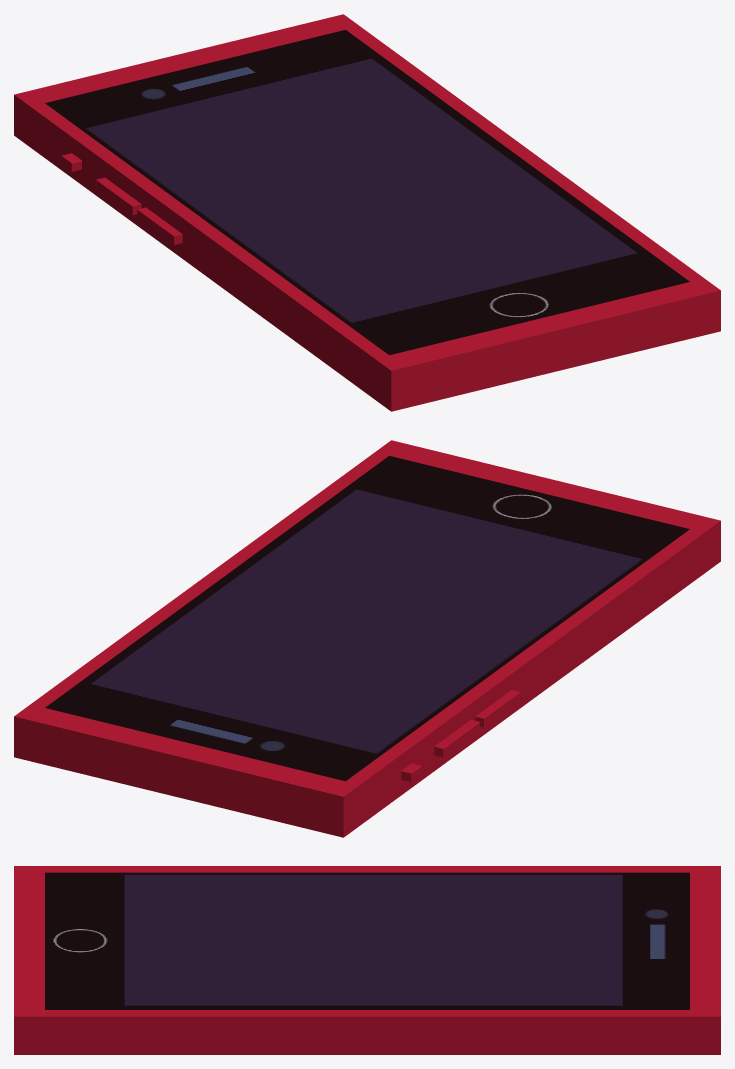
The model's file is brickphone.fbx.
3 views of the same model, one above another, from view 1: azimuth 30°, elevation 25°; view 2: azimuth 150°, elevation 25°; view 3: azimuth 270°, elevation 25° (orthographic). The views are drawn at different scales.
Visible parts, largest first — view 1: blockphone; view 2: blockphone; view 3: blockphone.
Part boxes in pixels (x1,y1,x2,y2): blockphone: (14, 14, 720, 411); blockphone: (14, 440, 720, 837); blockphone: (14, 866, 720, 1054).
Size of the model in its own units: 169 by 19.37 by 324.
